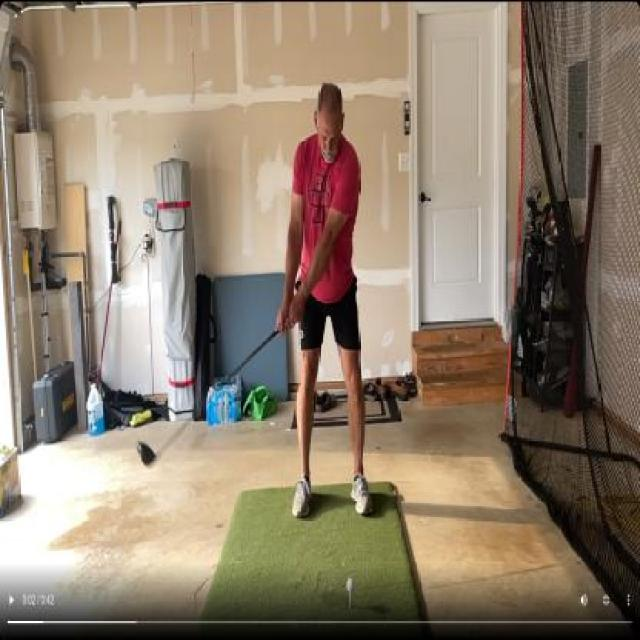club head: (134, 436, 161, 470)
